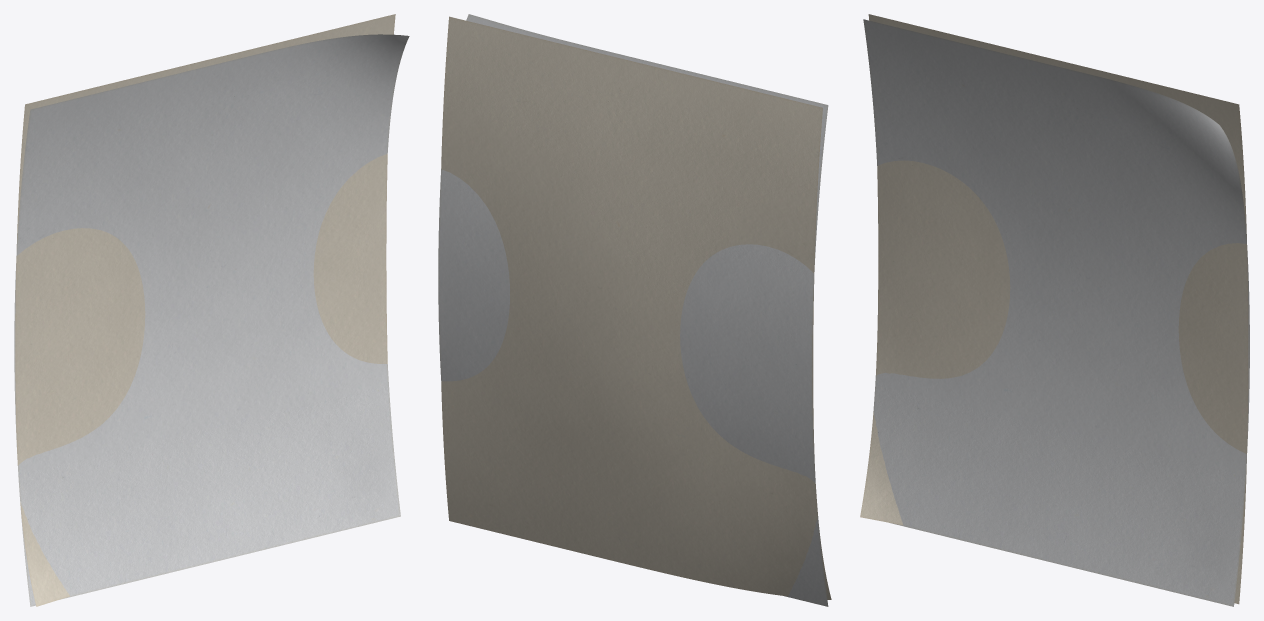
File: pages.glb
The picture shows the model from 3 angles, left to right: view 1: azimuth 30°, elevation 25°; view 2: azimuth 150°, elevation 25°; view 3: azimuth 330°, elevation 25°; orthographic projection.
Visible parts, largest first — view 1: page_2023, page_2026; view 2: page_2026, page_2023; view 3: page_2023, page_2026.
Part boxes in pixels (x1,y1,x2,y2): page_2023: (14, 34, 409, 606); page_2026: (15, 14, 395, 606); page_2026: (441, 16, 831, 599); page_2023: (438, 14, 828, 606); page_2023: (863, 19, 1249, 606); page_2026: (860, 14, 1248, 604).
Bounding box in the file's own units: 0.2159 × 0.2783 × 0.0293.
2 materials, 2 textured.
